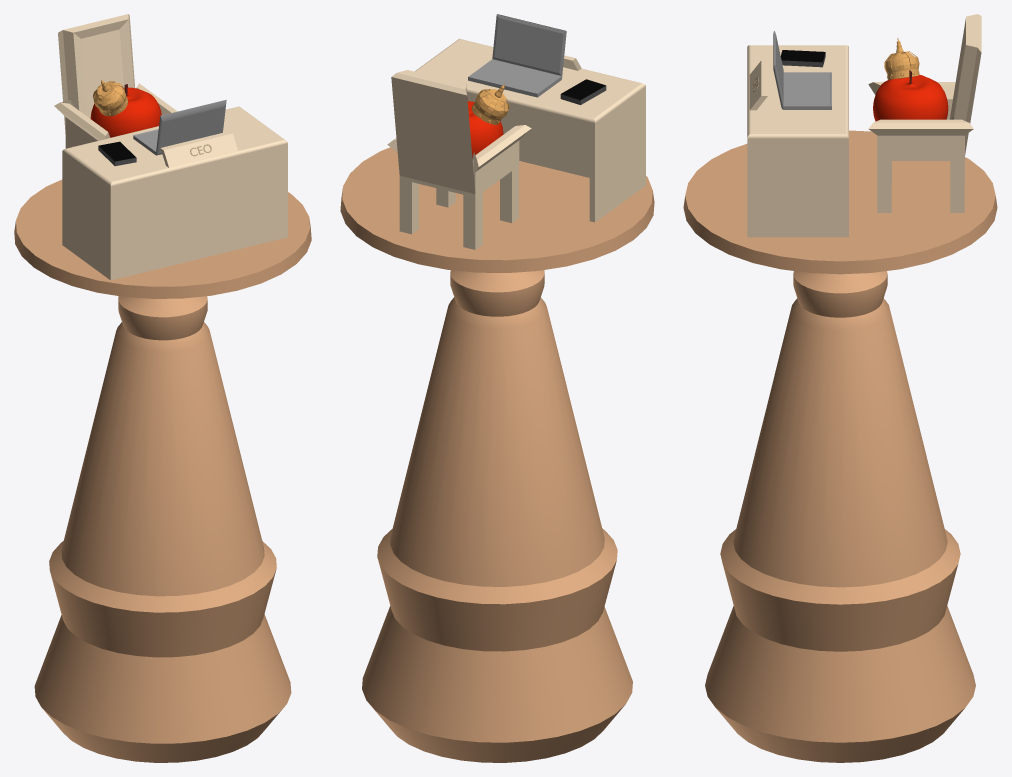
The model's file is KING.glb.
3 views of the same model, side by side, from view 1: azimuth 30°, elevation 25°; view 2: azimuth 150°, elevation 25°; view 3: azimuth 270°, elevation 25° (orthographic). The views are drawn at different scales.
Visible parts, largest first — view 1: Cylinder, Cube, Cube.001, Sphere, Cylinder.001, Cube.002; view 2: Cylinder, Cube, Cube.001, Cylinder.001, Sphere, Cube.002; view 3: Cylinder, Cube, Sphere, Cube.001, Cylinder.001, Cube.002.
Boxes of the visible parts, x1,y1,x2,y2 form: Cylinder: (14, 179, 311, 762); Cube: (54, 14, 287, 280); Cube.001: (133, 99, 226, 155); Sphere: (90, 84, 161, 137); Cylinder.001: (93, 80, 127, 116); Cube.002: (98, 141, 136, 166); Cylinder: (340, 147, 654, 762); Cube: (387, 38, 645, 249); Cube.001: (468, 14, 566, 97); Cylinder.001: (471, 84, 509, 124); Sphere: (467, 98, 503, 158); Cube.002: (560, 79, 606, 104); Cylinder: (683, 130, 997, 762); Cube: (747, 14, 981, 237); Sphere: (873, 70, 948, 121); Cube.001: (773, 31, 831, 109); Cylinder.001: (884, 38, 919, 80); Cube.002: (780, 50, 825, 67).
Bounding box in the file's own units: 0.8743 × 2.1 × 0.8743.
